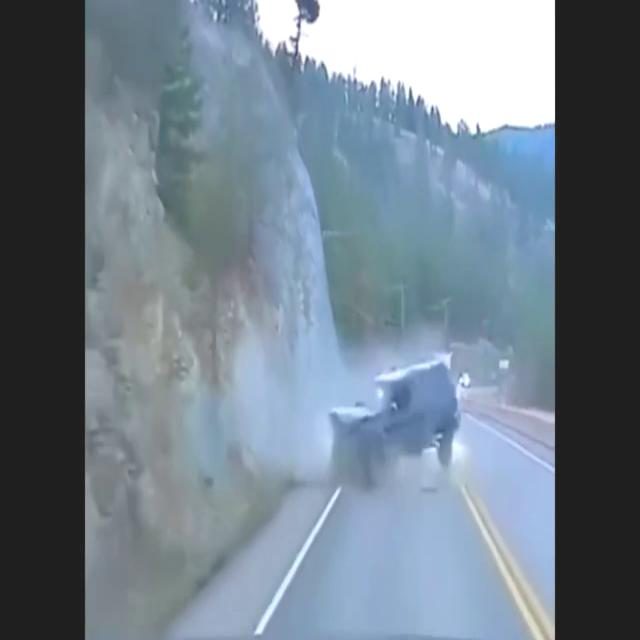accident: (328, 359, 456, 487)
